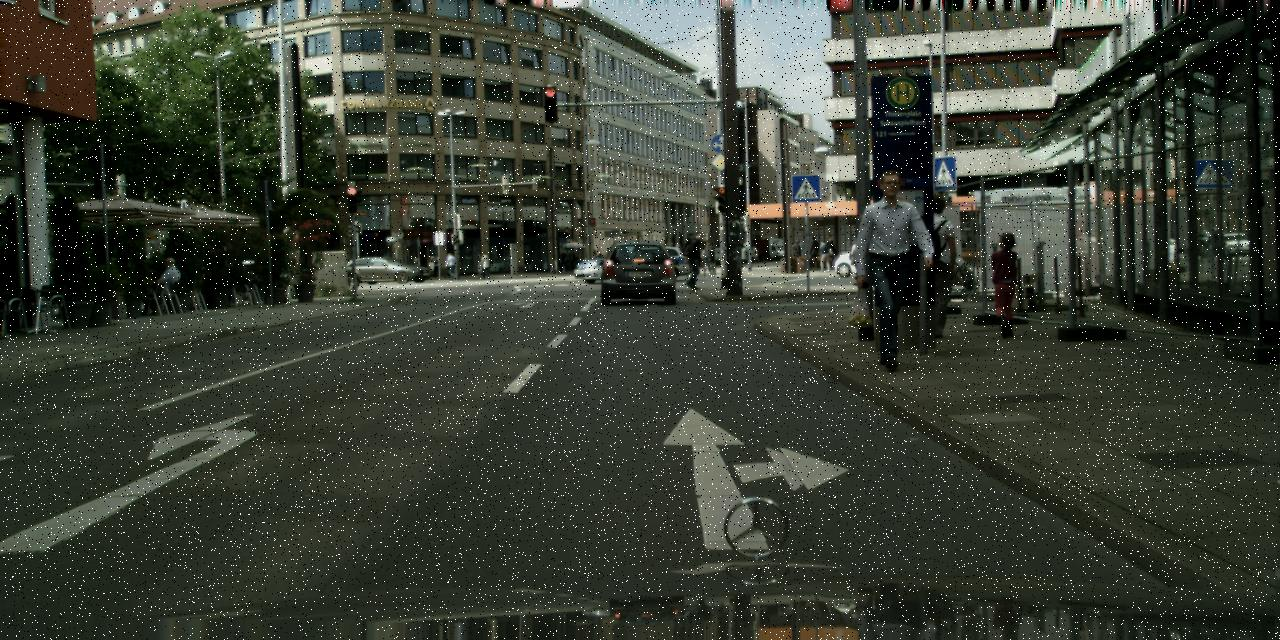ped: (850, 170, 929, 364), (905, 194, 963, 337), (985, 231, 1027, 336), (683, 231, 706, 289), (806, 235, 820, 270), (822, 234, 836, 268), (817, 240, 829, 271), (701, 241, 713, 272), (445, 252, 456, 280), (479, 251, 490, 279), (792, 238, 802, 266), (558, 249, 568, 273), (430, 253, 440, 276), (568, 248, 576, 270), (594, 248, 602, 269), (572, 251, 580, 270)
